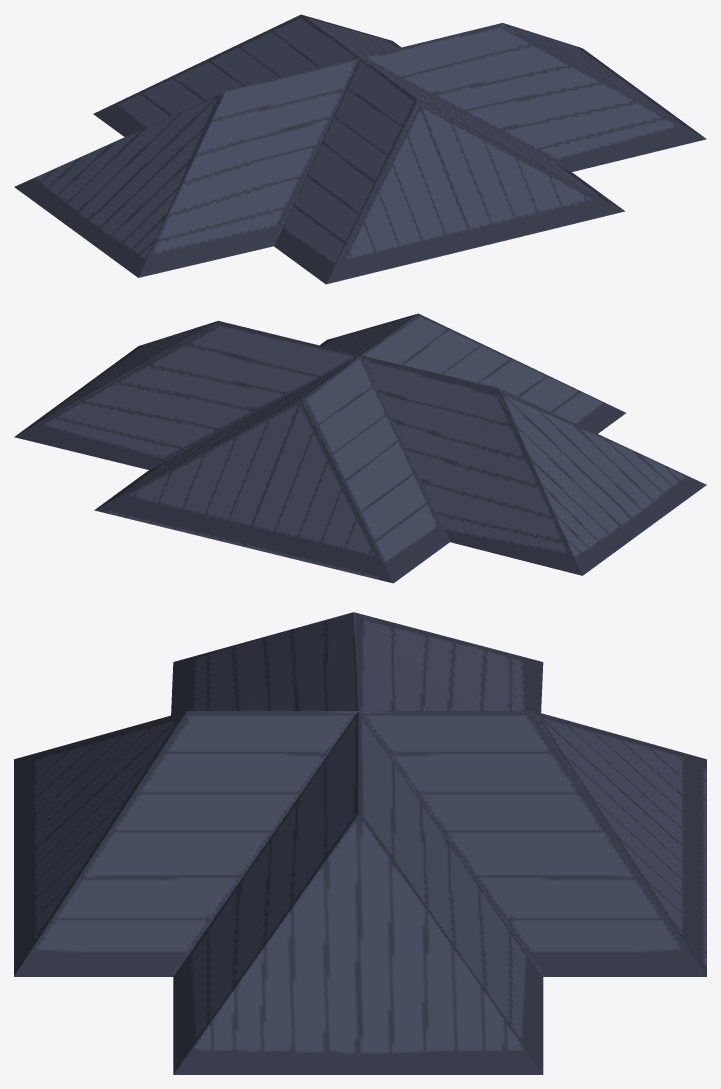
The model's file is Krov_4 (1).fbx.
3 renders of one model, top to bottom at view 1: azimuth 30°, elevation 25°; view 2: azimuth 150°, elevation 25°; view 3: azimuth 270°, elevation 25°, orthographic. The views are drawn at different scales.
Visible parts, largest first — view 1: Krov_4; view 2: Krov_4; view 3: Krov_4.
Boxes of the visible parts, <box> form: Krov_4: <box>14,14,706,284</box>; Krov_4: <box>14,313,706,583</box>; Krov_4: <box>14,612,706,1074</box>.
Size of the model in its own units: 498 by 88.42 by 354.
Materials: 1 (1 with a texture image).
